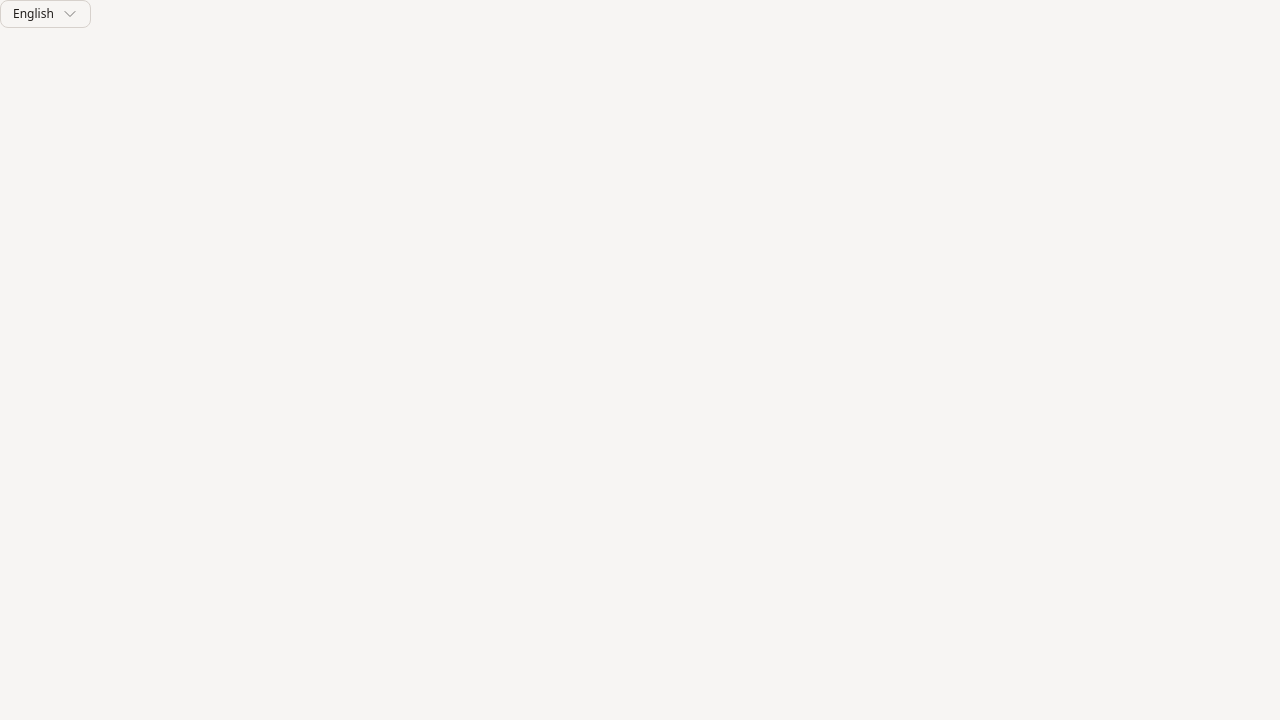
Scenario: MultiSelect › toggles options by keyboard with native checkboxes
Later steps or results of the test are not shown.
Click the button with aria-label "Pick languages" at (45, 14), box top-left (0, 0), bottom-right (91, 28)
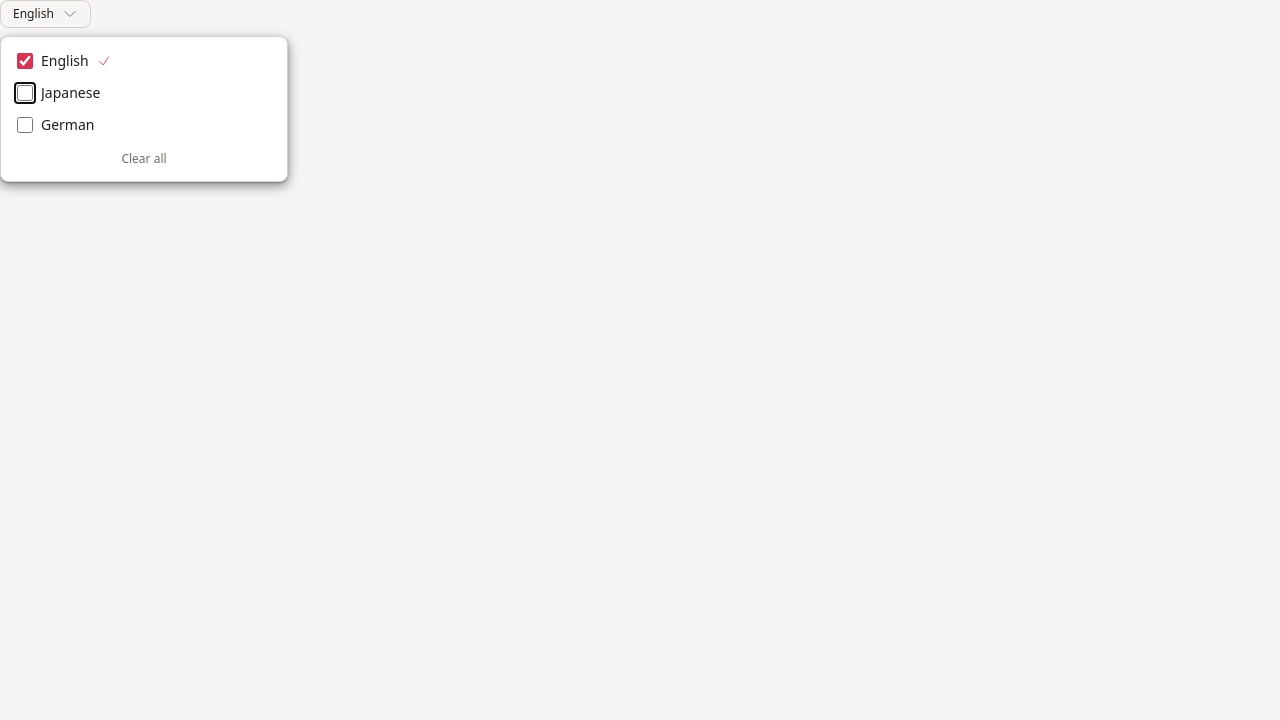
Expected: the checkbox labelled "Japanese" is not checked, top-left (17, 85), bottom-right (33, 101)
